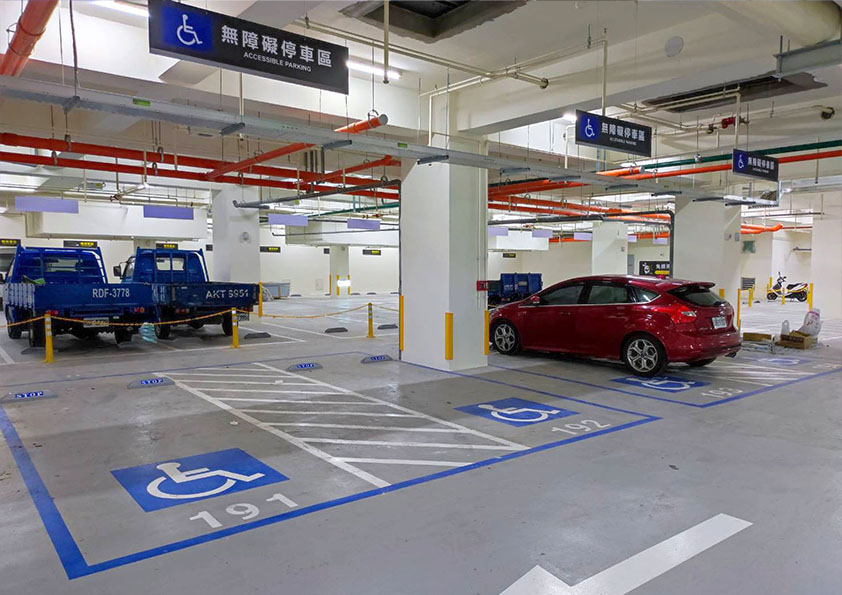car: (486, 270, 751, 377), (3, 232, 155, 359), (130, 244, 265, 349)
